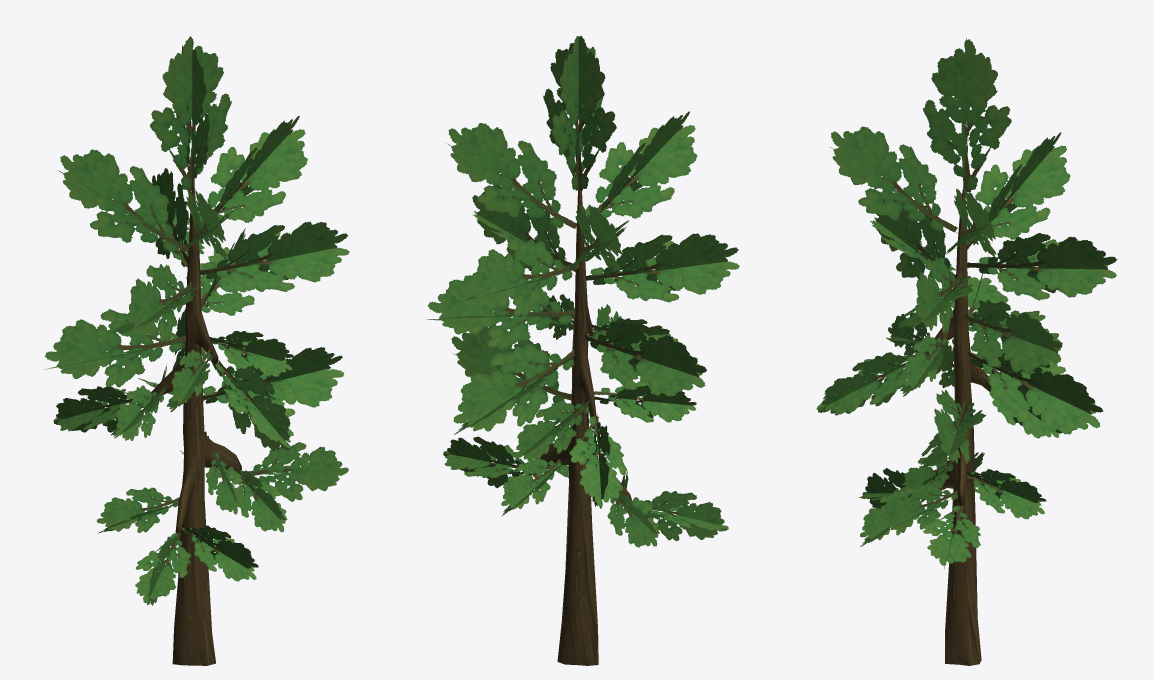
The model's file is tree2_03.fbx.
The picture shows the model from 3 angles, left to right: view 1: azimuth 30°, elevation 25°; view 2: azimuth 150°, elevation 25°; view 3: azimuth 270°, elevation 25°; orthographic projection.
Parts seen in each view (by area): view 1: polySurface3, pPlane12, pPlane3, pPlane106, pPlane97, pPlane102, pPlane103, pPlane9, pPlane104, pPlane11, pPlane131, pPlane118 (+21 smaller); view 2: polySurface3, pPlane96, pPlane128, pPlane99, pPlane100, pPlane108, pPlane3, pPlane104, pPlane105, pPlane107, pPlane106, pPlane1 (+17 smaller); view 3: polySurface3, pPlane1, pPlane98, pPlane13, pPlane129, pPlane100, pPlane101, pPlane109, pPlane104, pPlane128, pPlane114, pPlane8 (+20 smaller).
Boxes of the visible parts, box(x1,y1,x2,y2) form: polySurface3: box(147, 190, 242, 665); pPlane12: box(60, 149, 188, 252); pPlane3: box(150, 37, 231, 191); pPlane106: box(45, 309, 185, 387); pPlane97: box(197, 129, 307, 229); pPlane102: box(200, 221, 348, 279); pPlane103: box(200, 231, 349, 291); pPlane9: box(244, 442, 348, 501); pPlane104: box(126, 264, 192, 342); pPlane11: box(216, 360, 290, 451); pPlane131: box(203, 358, 344, 417); pPlane118: box(96, 487, 179, 532); polySurface3: box(532, 189, 632, 665); pPlane96: box(448, 123, 576, 228); pPlane128: box(453, 344, 574, 431); pPlane99: box(585, 125, 697, 220); pPlane100: box(465, 238, 579, 316); pPlane108: box(428, 275, 575, 350); pPlane3: box(543, 35, 616, 190); pPlane104: box(586, 233, 738, 292); pPlane105: box(587, 240, 739, 302); pPlane107: box(587, 332, 704, 396); pPlane106: box(584, 321, 706, 382); pPlane1: box(551, 36, 604, 190); polySurface3: box(926, 191, 991, 665); pPlane1: box(923, 39, 1011, 191); pPlane98: box(831, 126, 957, 232); pPlane13: box(967, 145, 1070, 249); pPlane129: box(969, 352, 1100, 434); pPlane100: box(967, 233, 1117, 292); pPlane101: box(967, 239, 1116, 300); pPlane109: box(965, 310, 1062, 372); pPlane104: box(876, 192, 955, 284); pPlane128: box(967, 352, 1103, 414); pPlane114: box(878, 483, 957, 530); pPlane8: box(923, 505, 980, 565).
Bounding box in the file's own units: 342 × 661 × 341.
